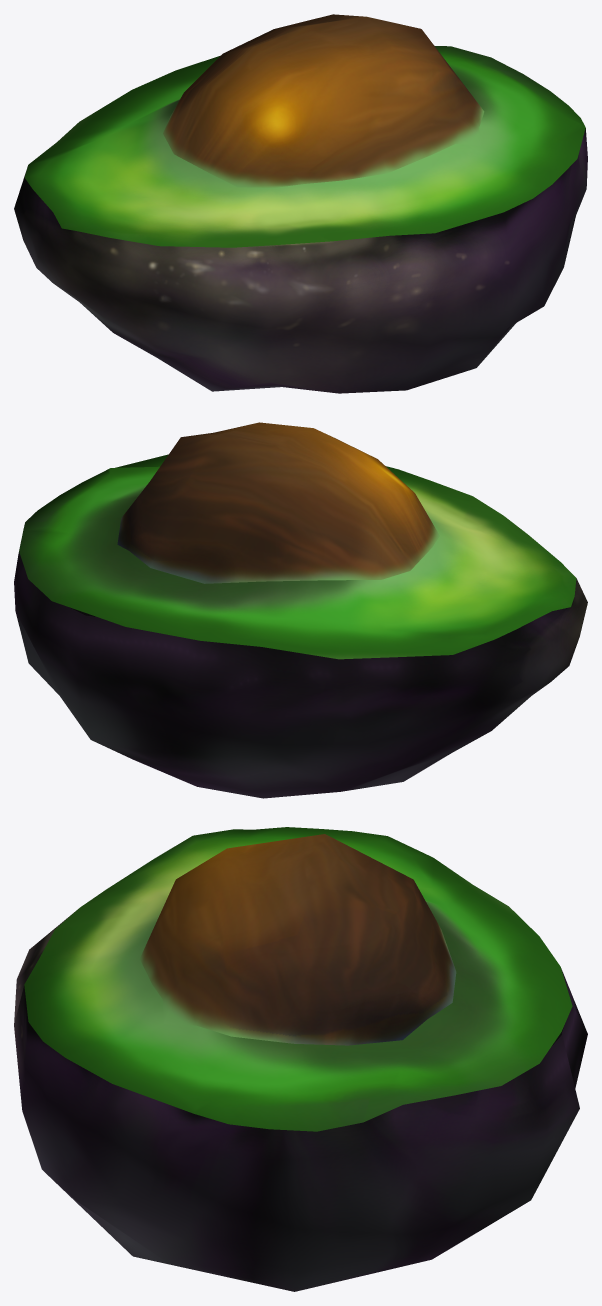
File: aguacate.glb
3 renders of one model, top to bottom at view 1: azimuth 30°, elevation 25°; view 2: azimuth 150°, elevation 25°; view 3: azimuth 270°, elevation 25°, orthographic. The views are drawn at different scales.
Visible parts, largest first — view 1: Object_2; view 2: Object_2; view 3: Object_2.
Part boxes in pixels (x1,y1,x2,y2): Object_2: (14, 14, 587, 393); Object_2: (14, 422, 587, 798); Object_2: (14, 827, 587, 1291).
Bounding box in the file's own units: 4.42 × 2.8 × 3.63.
1 material, 1 textured.
